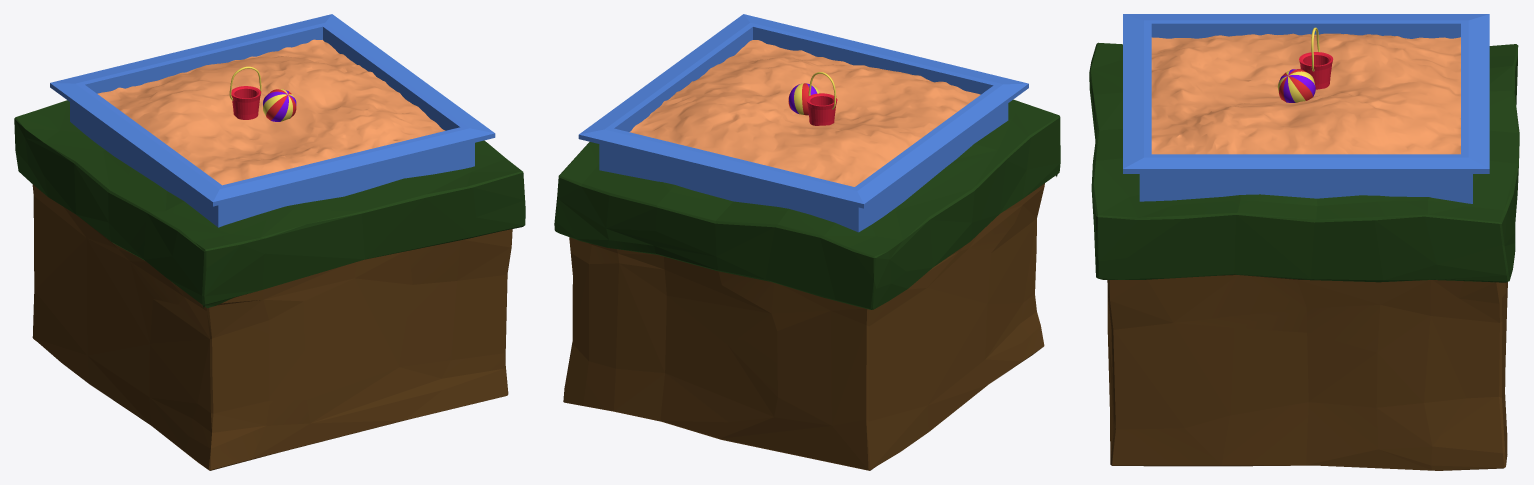
Rendered from tile_sandbox.gltf.
The picture shows the model from 3 angles, left to right: view 1: azimuth 30°, elevation 25°; view 2: azimuth 150°, elevation 25°; view 3: azimuth 270°, elevation 25°; orthographic projection. The views are drawn at different scales.
Visible parts, largest first — view 1: hill.004, Sphere.002; view 2: hill.004, Sphere.002; view 3: hill.004, Sphere.002.
Boxes of the visible parts, x1,y1,x2,y2 form: hill.004: (14,100,525,470); Sphere.002: (50,14,495,227); hill.004: (554,99,1060,470); Sphere.002: (578,14,1028,232); hill.004: (1089,42,1519,470); Sphere.002: (1123,14,1489,203).
Bounding box in the file's own units: 1.07 × 0.9663 × 1.09.
